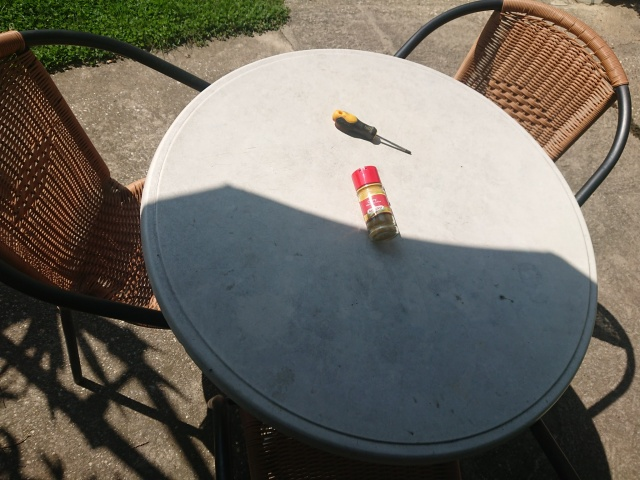Kotanyi Curry Spices Mix 70g: (350, 164, 401, 246)
